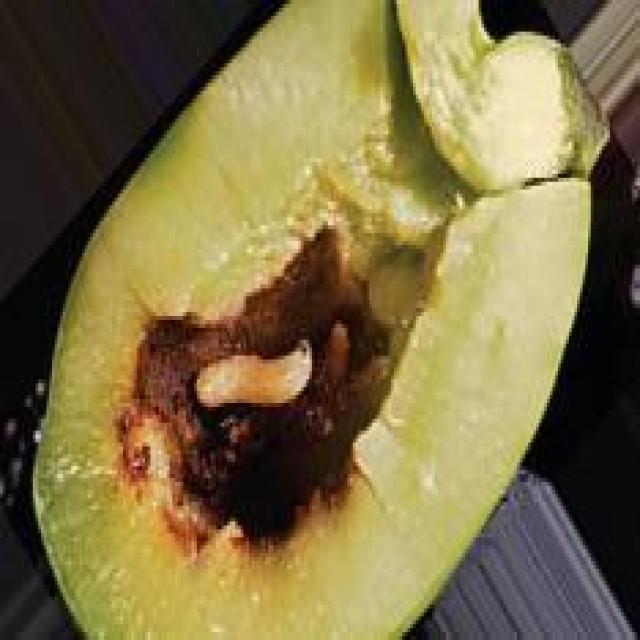Anthracnose: (34, 0, 588, 636)
